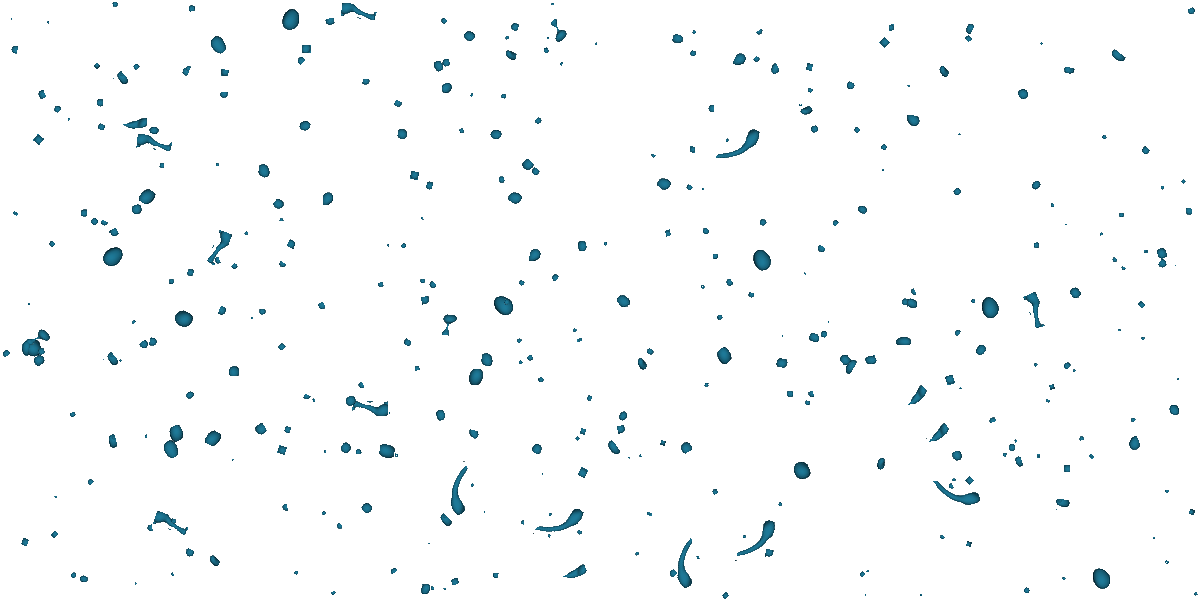Detached ligament: (532, 495, 586, 552), (713, 119, 762, 176), (662, 533, 710, 590), (437, 460, 483, 517), (735, 514, 777, 569), (928, 474, 981, 511), (1022, 291, 1050, 330), (206, 229, 233, 268), (152, 510, 191, 536), (24, 324, 52, 352), (544, 16, 572, 44), (340, 2, 378, 21), (136, 133, 173, 152), (904, 384, 929, 409), (925, 422, 951, 446), (352, 401, 388, 416), (561, 563, 588, 582), (439, 314, 457, 336), (122, 117, 148, 130)
drop: (274, 4, 306, 36), (490, 292, 517, 321), (976, 294, 1003, 323), (168, 306, 196, 332), (98, 244, 126, 269), (204, 33, 230, 59), (788, 456, 813, 483), (157, 437, 182, 463), (750, 248, 773, 274), (21, 334, 43, 359), (1090, 567, 1112, 592), (713, 345, 735, 367), (137, 186, 158, 208), (203, 428, 224, 449), (166, 423, 186, 444), (518, 157, 538, 177), (435, 512, 455, 532), (1107, 47, 1127, 66), (603, 438, 622, 458), (674, 438, 694, 457), (112, 70, 131, 90), (102, 351, 121, 371), (841, 355, 859, 376), (359, 499, 378, 518), (336, 440, 355, 459), (270, 195, 289, 214), (251, 422, 270, 441), (506, 188, 525, 207), (655, 174, 674, 193), (528, 439, 547, 457), (460, 27, 478, 45), (615, 292, 633, 310), (797, 102, 815, 120), (732, 50, 749, 69), (1016, 86, 1033, 104), (103, 433, 119, 452), (487, 126, 504, 143), (633, 355, 650, 372), (1126, 435, 1142, 453), (935, 63, 952, 79), (528, 246, 543, 264), (863, 353, 879, 369), (873, 455, 889, 471), (127, 203, 144, 218), (949, 449, 966, 464), (297, 118, 312, 134), (138, 338, 153, 354), (468, 369, 483, 385), (379, 444, 395, 459), (480, 352, 495, 368), (257, 163, 272, 179), (615, 409, 631, 424), (1028, 178, 1044, 193), (854, 202, 870, 217), (206, 553, 222, 568), (838, 352, 853, 368), (1068, 285, 1083, 301), (31, 353, 47, 368), (973, 342, 988, 358), (341, 395, 358, 409), (905, 114, 922, 128), (1055, 498, 1072, 512), (19, 338, 31, 357), (1157, 257, 1172, 272), (431, 59, 446, 74), (224, 363, 240, 377), (767, 60, 781, 76), (440, 80, 454, 95), (77, 572, 92, 586), (182, 547, 196, 562), (1155, 246, 1169, 261), (807, 331, 822, 345), (182, 389, 197, 402), (322, 191, 335, 206), (146, 124, 161, 137), (434, 408, 447, 423), (1167, 403, 1181, 416), (1059, 360, 1073, 373), (50, 103, 63, 117), (397, 128, 409, 143), (895, 335, 913, 345), (465, 428, 480, 440), (814, 244, 827, 257), (293, 53, 306, 66), (951, 186, 964, 199), (420, 583, 433, 596), (906, 296, 919, 309), (699, 226, 712, 239), (533, 115, 546, 128), (32, 133, 45, 146), (878, 36, 891, 49), (148, 336, 162, 348), (808, 124, 821, 136), (35, 88, 47, 101), (217, 305, 229, 318), (504, 49, 517, 61), (576, 240, 588, 253), (577, 466, 589, 479), (964, 22, 975, 36), (757, 217, 769, 229), (108, 227, 120, 239), (286, 238, 298, 250), (644, 347, 656, 359), (723, 277, 735, 289), (844, 80, 856, 92), (944, 374, 956, 386), (276, 444, 288, 456), (1014, 455, 1024, 469), (324, 17, 336, 28), (1186, 6, 1198, 17), (549, 272, 560, 283), (427, 280, 438, 291), (764, 548, 775, 559), (616, 424, 627, 435), (387, 565, 398, 576), (230, 262, 241, 273), (525, 354, 536, 365), (437, 16, 448, 27), (752, 55, 763, 66), (667, 568, 678, 579), (277, 260, 288, 271), (530, 166, 541, 177), (1140, 145, 1151, 156), (402, 337, 413, 348), (0, 348, 11, 359), (182, 62, 193, 73), (495, 175, 506, 186), (84, 476, 95, 487), (951, 327, 962, 338), (89, 216, 100, 227), (851, 125, 862, 136), (46, 239, 57, 250), (509, 21, 520, 32), (440, 57, 451, 68), (964, 475, 975, 486), (409, 170, 420, 181), (776, 358, 788, 368), (672, 34, 684, 44), (819, 329, 828, 342), (184, 4, 197, 13), (1063, 66, 1076, 75), (806, 390, 816, 401), (302, 393, 313, 403), (219, 91, 229, 102), (99, 219, 110, 229), (212, 256, 222, 267), (317, 301, 327, 312), (393, 99, 404, 109), (356, 381, 366, 392), (945, 481, 955, 492), (754, 28, 765, 38), (96, 122, 107, 132), (130, 62, 141, 72), (879, 143, 890, 153), (830, 217, 840, 228), (276, 342, 287, 352), (301, 44, 312, 54), (8, 45, 18, 55), (258, 308, 268, 318), (334, 522, 344, 532), (1021, 586, 1031, 596), (684, 183, 694, 193), (1110, 256, 1120, 266), (1127, 415, 1137, 425), (513, 336, 523, 346), (20, 537, 30, 547), (986, 415, 997, 424), (181, 67, 190, 78), (908, 286, 917, 297), (145, 524, 154, 534), (688, 49, 697, 59), (746, 291, 756, 300), (283, 425, 292, 435), (36, 347, 46, 356), (575, 529, 585, 538), (450, 577, 460, 586), (901, 298, 910, 307), (399, 242, 408, 251), (421, 296, 430, 305), (69, 571, 78, 580), (715, 313, 724, 322), (805, 86, 814, 95), (721, 591, 730, 600), (964, 34, 973, 43), (50, 530, 59, 539), (1137, 300, 1146, 309), (491, 572, 499, 582), (712, 253, 722, 261), (1185, 207, 1193, 217), (80, 208, 88, 218), (457, 126, 465, 135), (96, 98, 104, 107), (362, 78, 371, 86), (1008, 443, 1016, 452), (1031, 241, 1040, 249), (517, 279, 526, 287), (354, 447, 363, 455), (536, 376, 545, 384), (68, 411, 77, 419), (786, 390, 795, 398), (1076, 434, 1085, 442), (1063, 464, 1071, 473), (803, 399, 811, 407), (129, 317, 137, 325), (1163, 558, 1171, 566), (585, 394, 593, 402), (502, 298, 510, 306), (858, 570, 866, 578), (169, 517, 177, 525), (542, 46, 550, 54), (1031, 360, 1039, 368), (1059, 574, 1067, 582), (1138, 334, 1146, 342), (633, 550, 641, 558), (503, 34, 511, 42), (969, 297, 977, 305), (1100, 133, 1108, 141), (293, 569, 301, 577), (1180, 178, 1188, 186), (573, 435, 581, 443), (517, 359, 525, 367), (659, 439, 667, 447), (1188, 508, 1196, 516), (93, 62, 101, 70), (965, 540, 973, 548), (664, 229, 672, 237), (281, 504, 288, 513), (707, 105, 714, 114), (426, 181, 433, 190), (187, 268, 194, 277), (499, 93, 507, 100), (1117, 212, 1125, 219), (320, 509, 327, 517), (111, 1, 119, 8), (938, 534, 946, 541), (168, 278, 175, 286), (213, 160, 220, 168), (1191, 591, 1199, 598), (690, 29, 698, 36), (1159, 184, 1166, 192), (418, 278, 426, 285), (806, 63, 813, 71), (221, 69, 229, 76), (278, 215, 285, 222), (1163, 489, 1170, 496), (602, 240, 609, 247), (158, 162, 165, 169), (330, 590, 337, 597), (571, 327, 578, 334), (429, 585, 436, 592), (1049, 202, 1056, 209), (1120, 265, 1127, 272), (468, 91, 475, 98), (310, 397, 317, 404), (703, 381, 710, 388), (1001, 452, 1008, 459), (1088, 453, 1095, 460), (12, 210, 19, 217), (888, 24, 895, 31), (689, 146, 696, 153), (393, 452, 400, 458), (699, 284, 706, 290), (712, 488, 718, 495), (377, 282, 384, 288), (650, 153, 657, 159), (558, 60, 564, 67), (169, 571, 175, 578), (646, 511, 653, 517), (576, 337, 583, 343), (580, 428, 586, 435), (1038, 40, 1044, 46), (436, 409, 442, 415), (546, 533, 552, 539), (1098, 231, 1104, 237), (777, 501, 783, 507), (419, 216, 425, 222), (1012, 438, 1018, 444), (65, 116, 71, 122), (637, 453, 643, 459), (117, 358, 123, 364), (1175, 376, 1181, 382), (414, 365, 420, 371), (385, 242, 391, 248), (45, 19, 51, 25), (1151, 536, 1157, 542), (957, 132, 963, 138), (958, 386, 964, 392), (699, 186, 705, 192), (1049, 384, 1055, 390), (520, 519, 525, 526), (797, 103, 804, 108), (593, 41, 598, 47), (143, 433, 148, 439), (322, 449, 327, 455), (549, 1, 555, 6), (545, 35, 551, 40), (26, 302, 32, 307), (918, 593, 924, 598), (880, 168, 886, 173), (248, 315, 254, 320), (442, 587, 447, 593), (243, 231, 249, 236), (1036, 453, 1041, 459), (1143, 249, 1149, 254), (865, 569, 870, 574), (862, 211, 867, 216), (626, 455, 631, 460), (1117, 327, 1122, 332), (802, 271, 807, 276), (1045, 399, 1051, 403), (53, 495, 58, 499), (906, 84, 911, 88), (387, 410, 391, 415), (780, 333, 784, 338), (482, 509, 486, 514), (231, 458, 235, 463), (1063, 223, 1068, 227), (863, 592, 867, 597), (826, 319, 830, 324), (1072, 368, 1076, 373), (427, 542, 431, 546), (10, 17, 14, 21), (224, 438, 228, 442), (540, 472, 544, 476), (134, 581, 137, 585), (1173, 264, 1176, 267)
